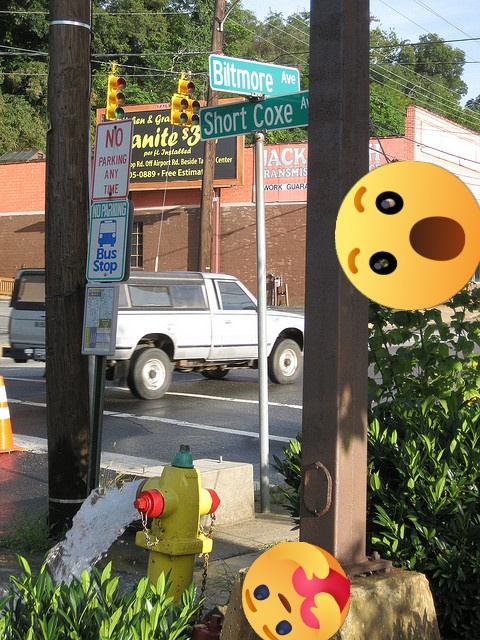care: (242, 542, 350, 640)
wow: (335, 161, 480, 310)
